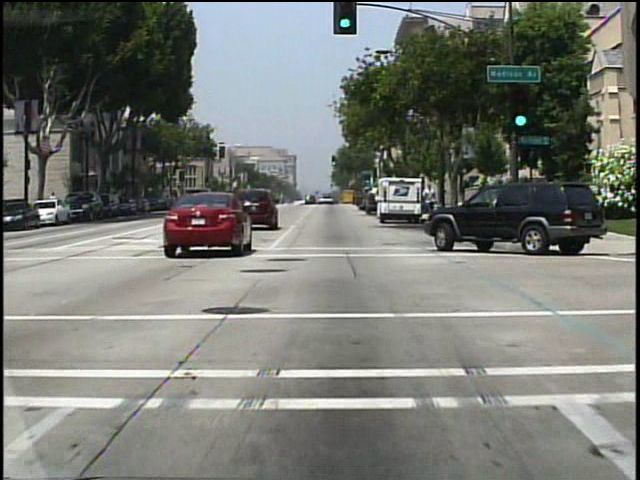person: (422, 183, 437, 217), (355, 186, 369, 214), (50, 189, 61, 212)
